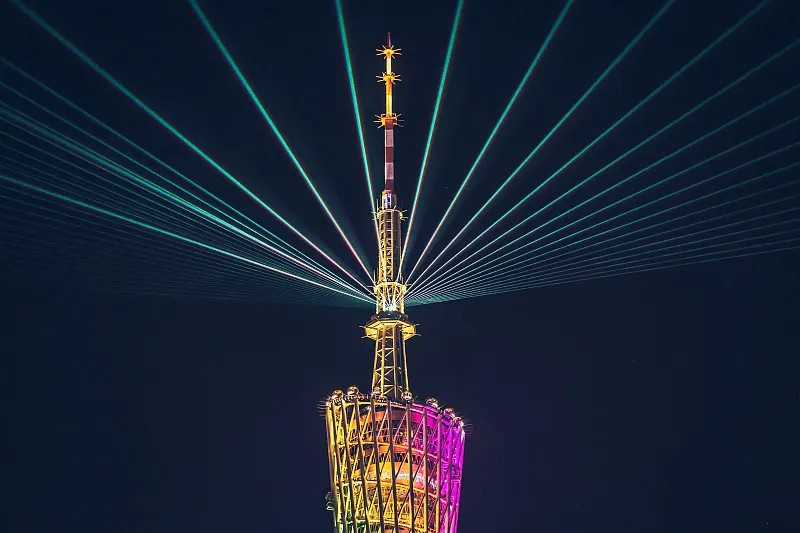Canton: (309, 23, 472, 531)
